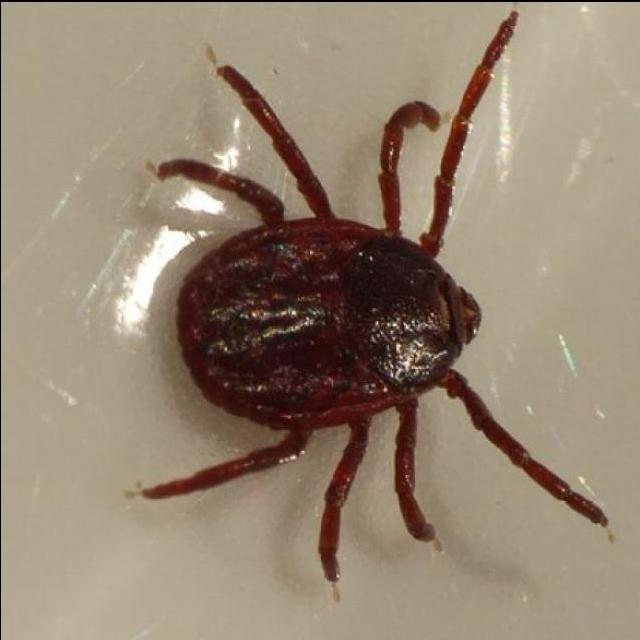Rhipicephalus Sanguineus-F: (138, 0, 605, 585)
